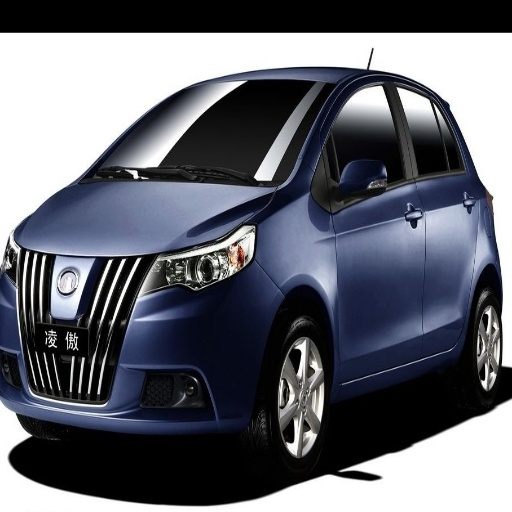front_bumper: (2, 244, 280, 433)
front_glass: (80, 84, 335, 184)
front_left_door: (317, 75, 424, 378)
